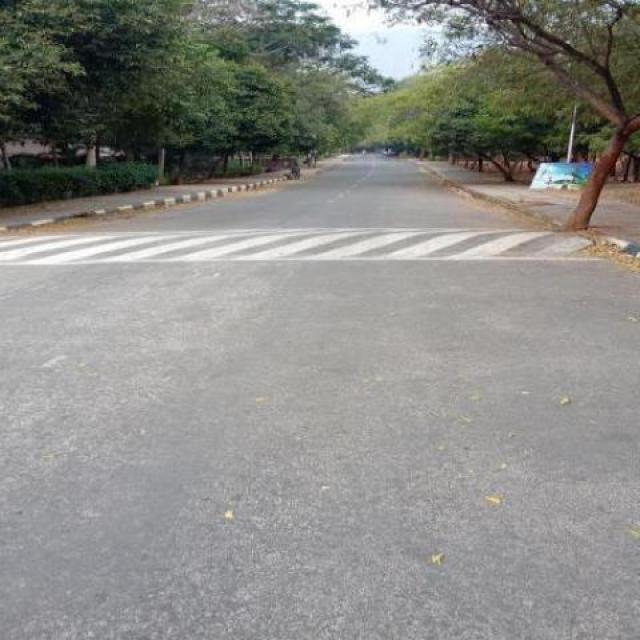Speed Bump: (1, 226, 608, 262)
